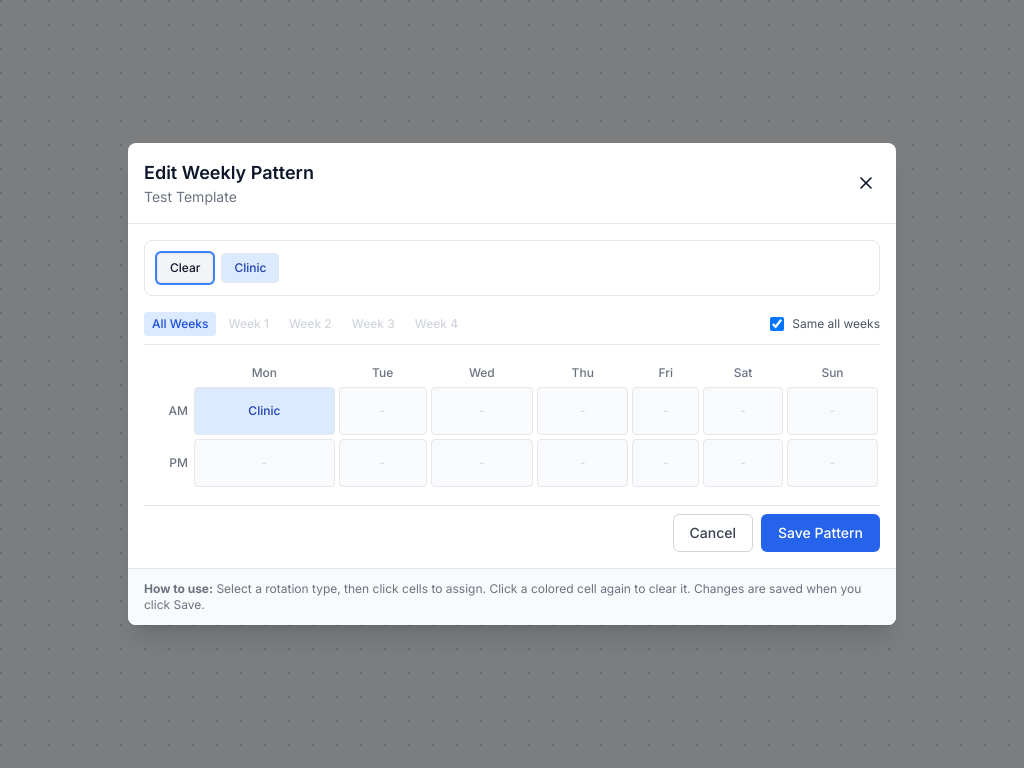
Test: TemplatePatternModal › Save Behavior › should show error message when save fails
This screenshot has width=1024, height=768.
Click the button "Save Pattern" at (820, 533), box [761,514,880,552]
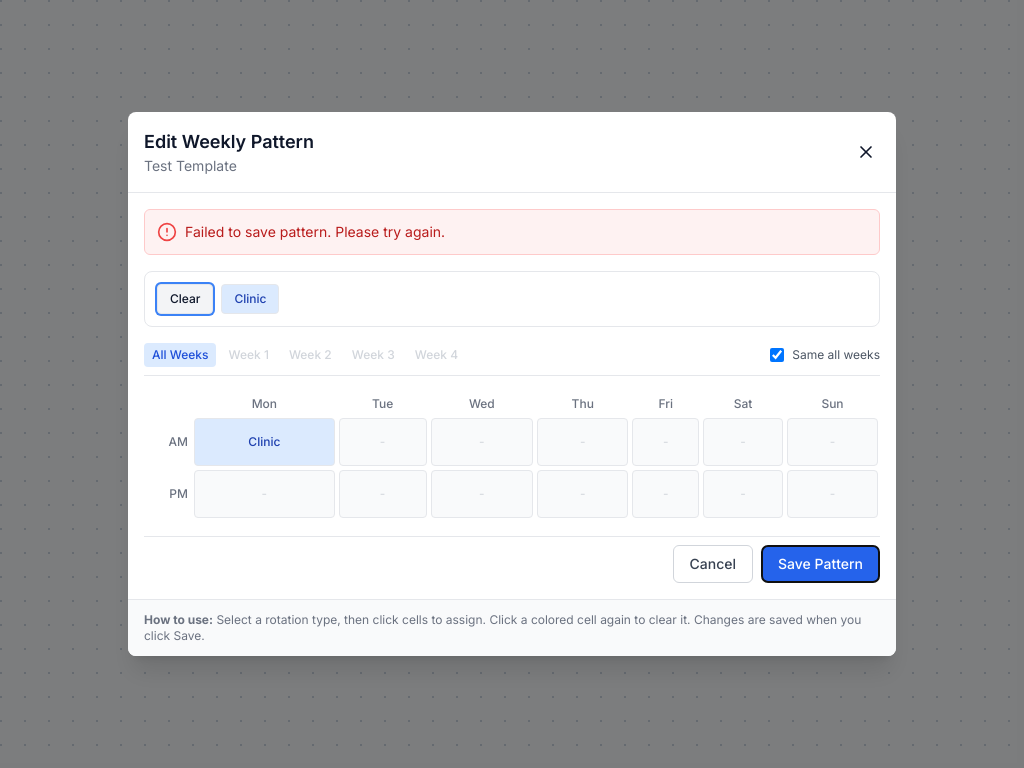
Expected: the text "Failed to save pattern. Please try again." is shown, [185,222,445,242]
